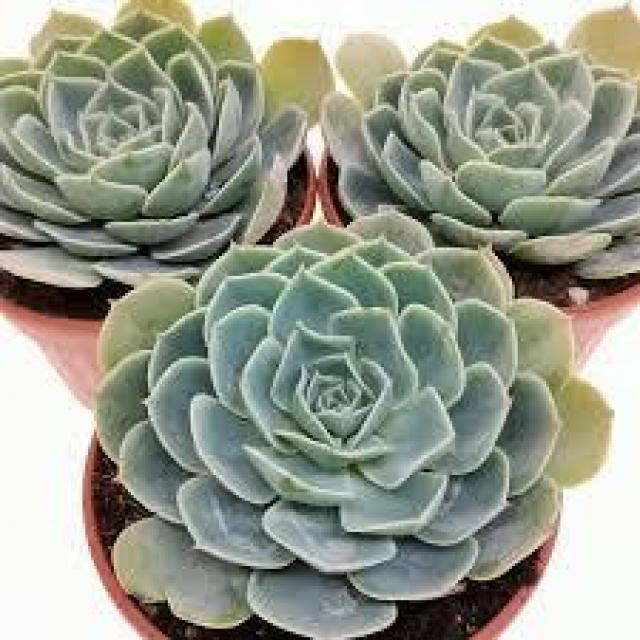organic waste: (77, 202, 569, 614), (303, 14, 636, 310), (10, 7, 277, 289)
